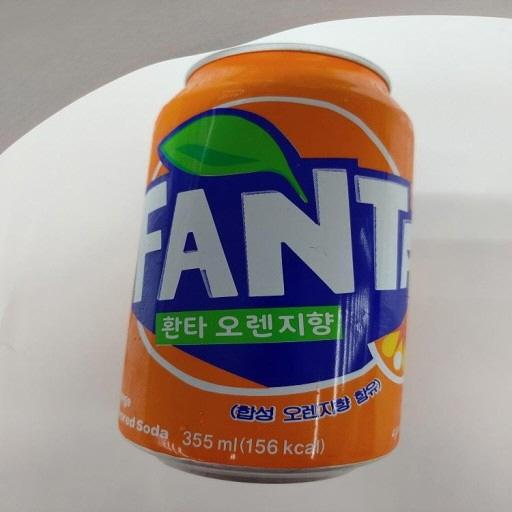fanta_orange: (105, 44, 431, 478)
